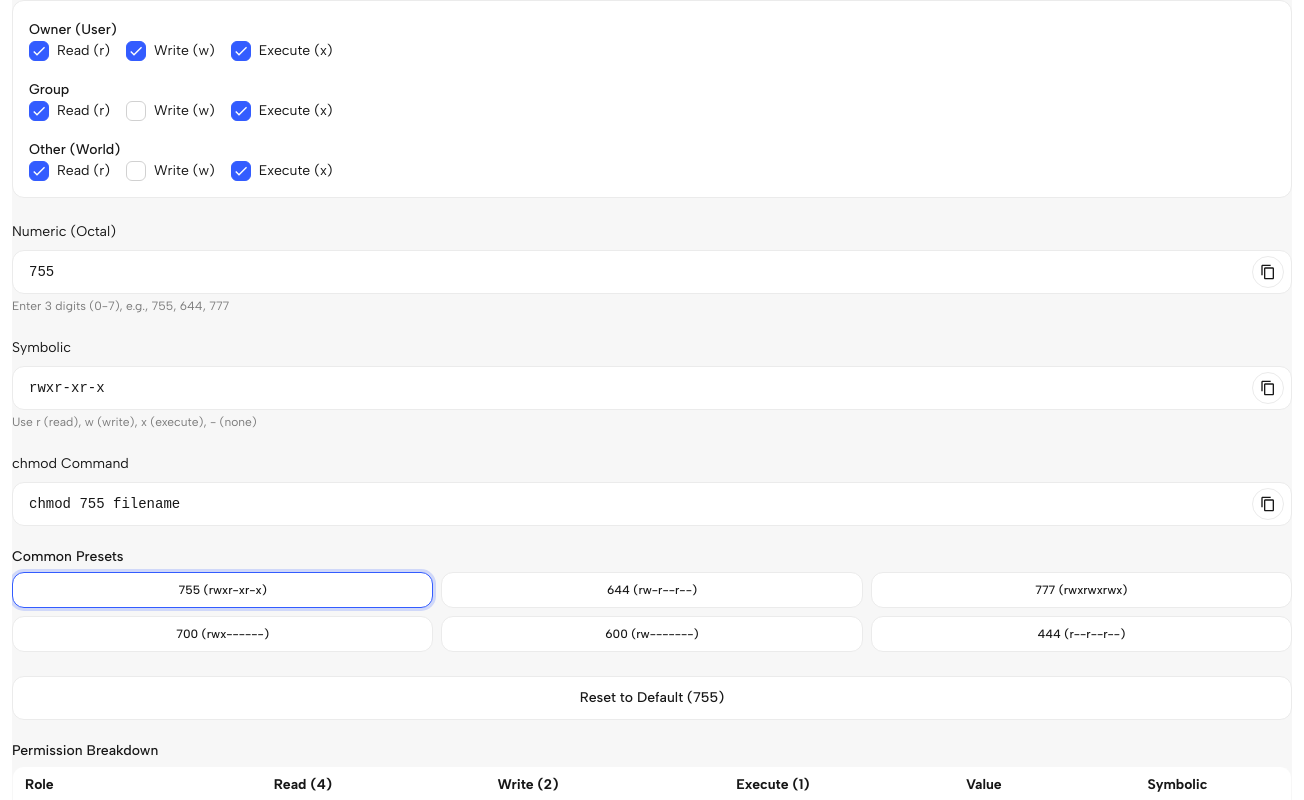
ChmodCalculatorTool › updates permissions when numeric input changes
Type "644" into the field with placeholder "755" below "Numeric (Octal)".
click(652, 272); type("644")  # box [12, 250, 1292, 294]
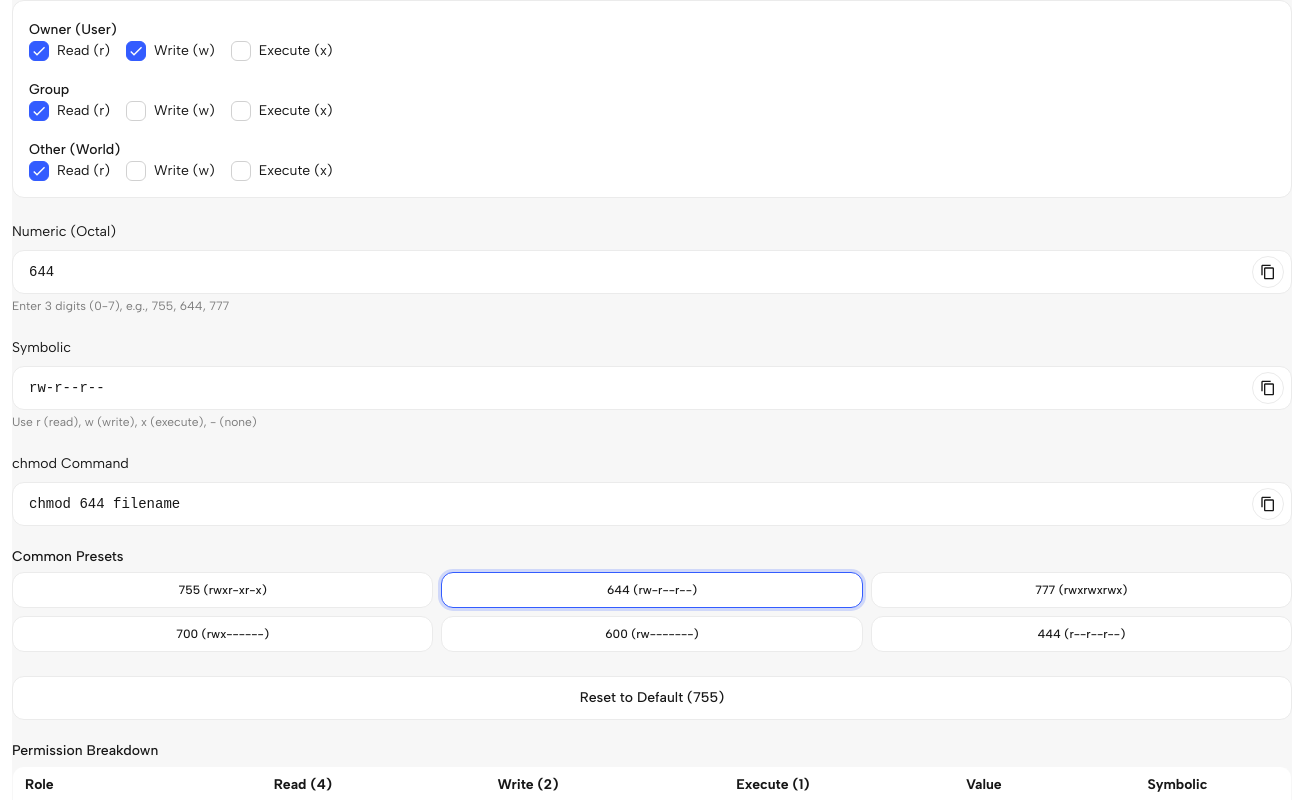
Expected: the 2nd field with placeholder "rwxr-xr-x" holds "rw-r--r--", [12, 366, 1292, 410]
